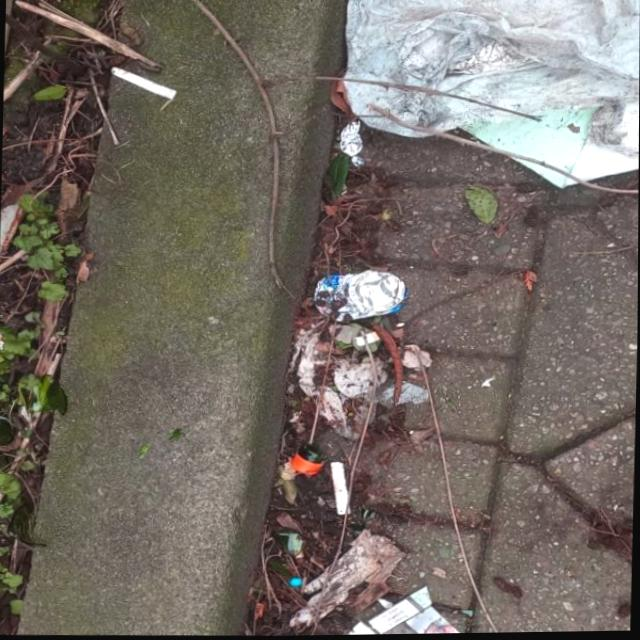Can-Metal: (312, 267, 411, 324)
Paper: (335, 0, 640, 163), (283, 325, 433, 445), (319, 582, 498, 636)
Plastic: (339, 118, 366, 168)
